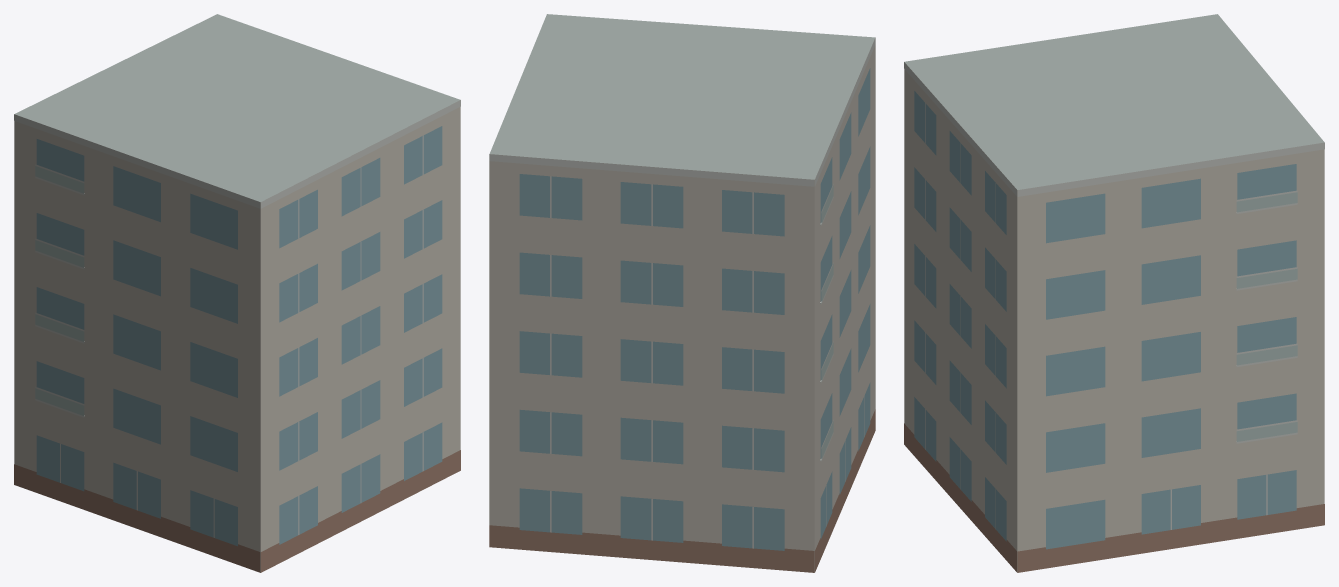
Rendered from survey-upis-32881898.glb.
3 renders of one model, left to right at view 1: azimuth 30°, elevation 25°; view 2: azimuth 150°, elevation 25°; view 3: azimuth 270°, elevation 25°, orthographic. The views are drawn at different scales.
Visible parts, largest first — view 1: survey-upis-32881898.tmp; view 2: survey-upis-32881898.tmp; view 3: survey-upis-32881898.tmp.
Part boxes in pixels (x1,y1,x2,y2): survey-upis-32881898.tmp: (14, 14, 460, 572); survey-upis-32881898.tmp: (489, 14, 875, 572); survey-upis-32881898.tmp: (904, 14, 1324, 572).
Bounding box in the file's own units: 13.48 × 13.65 × 13.61.
